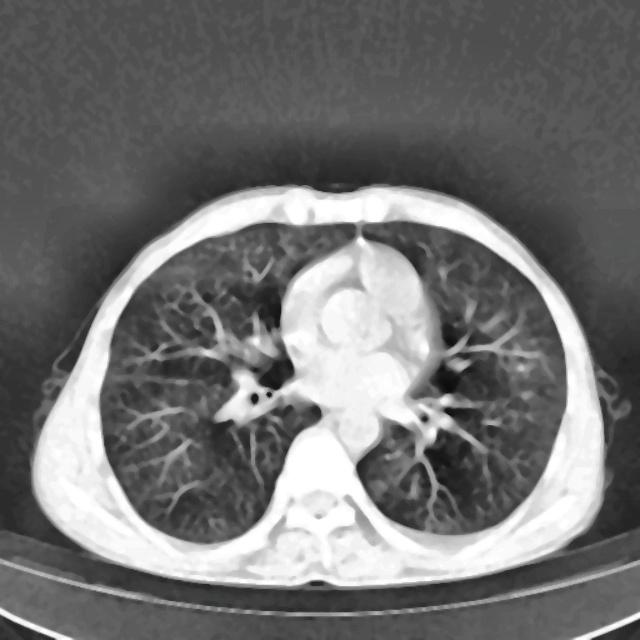covid: (29, 182, 623, 589)
